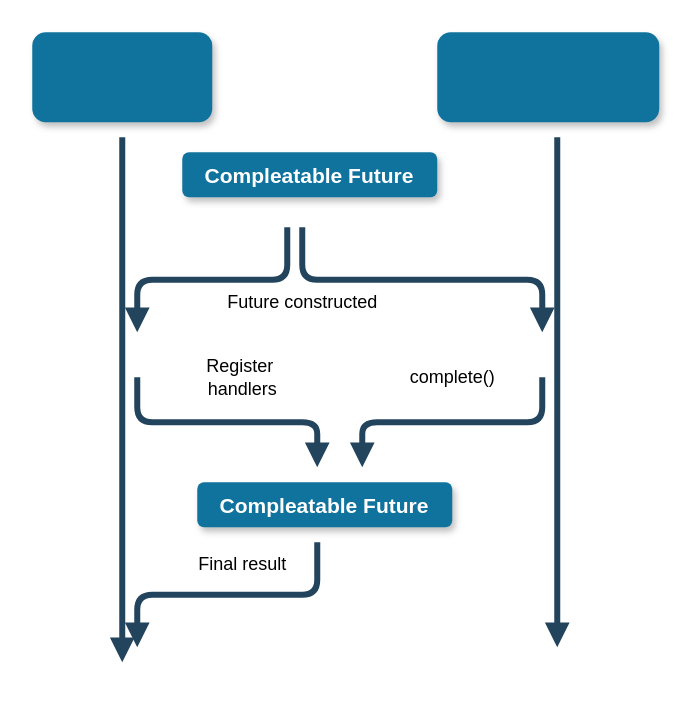
The diagram is 693 pixels wide and 702 high, and some of its shapes have lost their labels. The centre of each missing label's shape, as x and y in pixels:
"Client code" belongs at point (123, 79).
"Worker Thread" belongs at point (549, 79).
